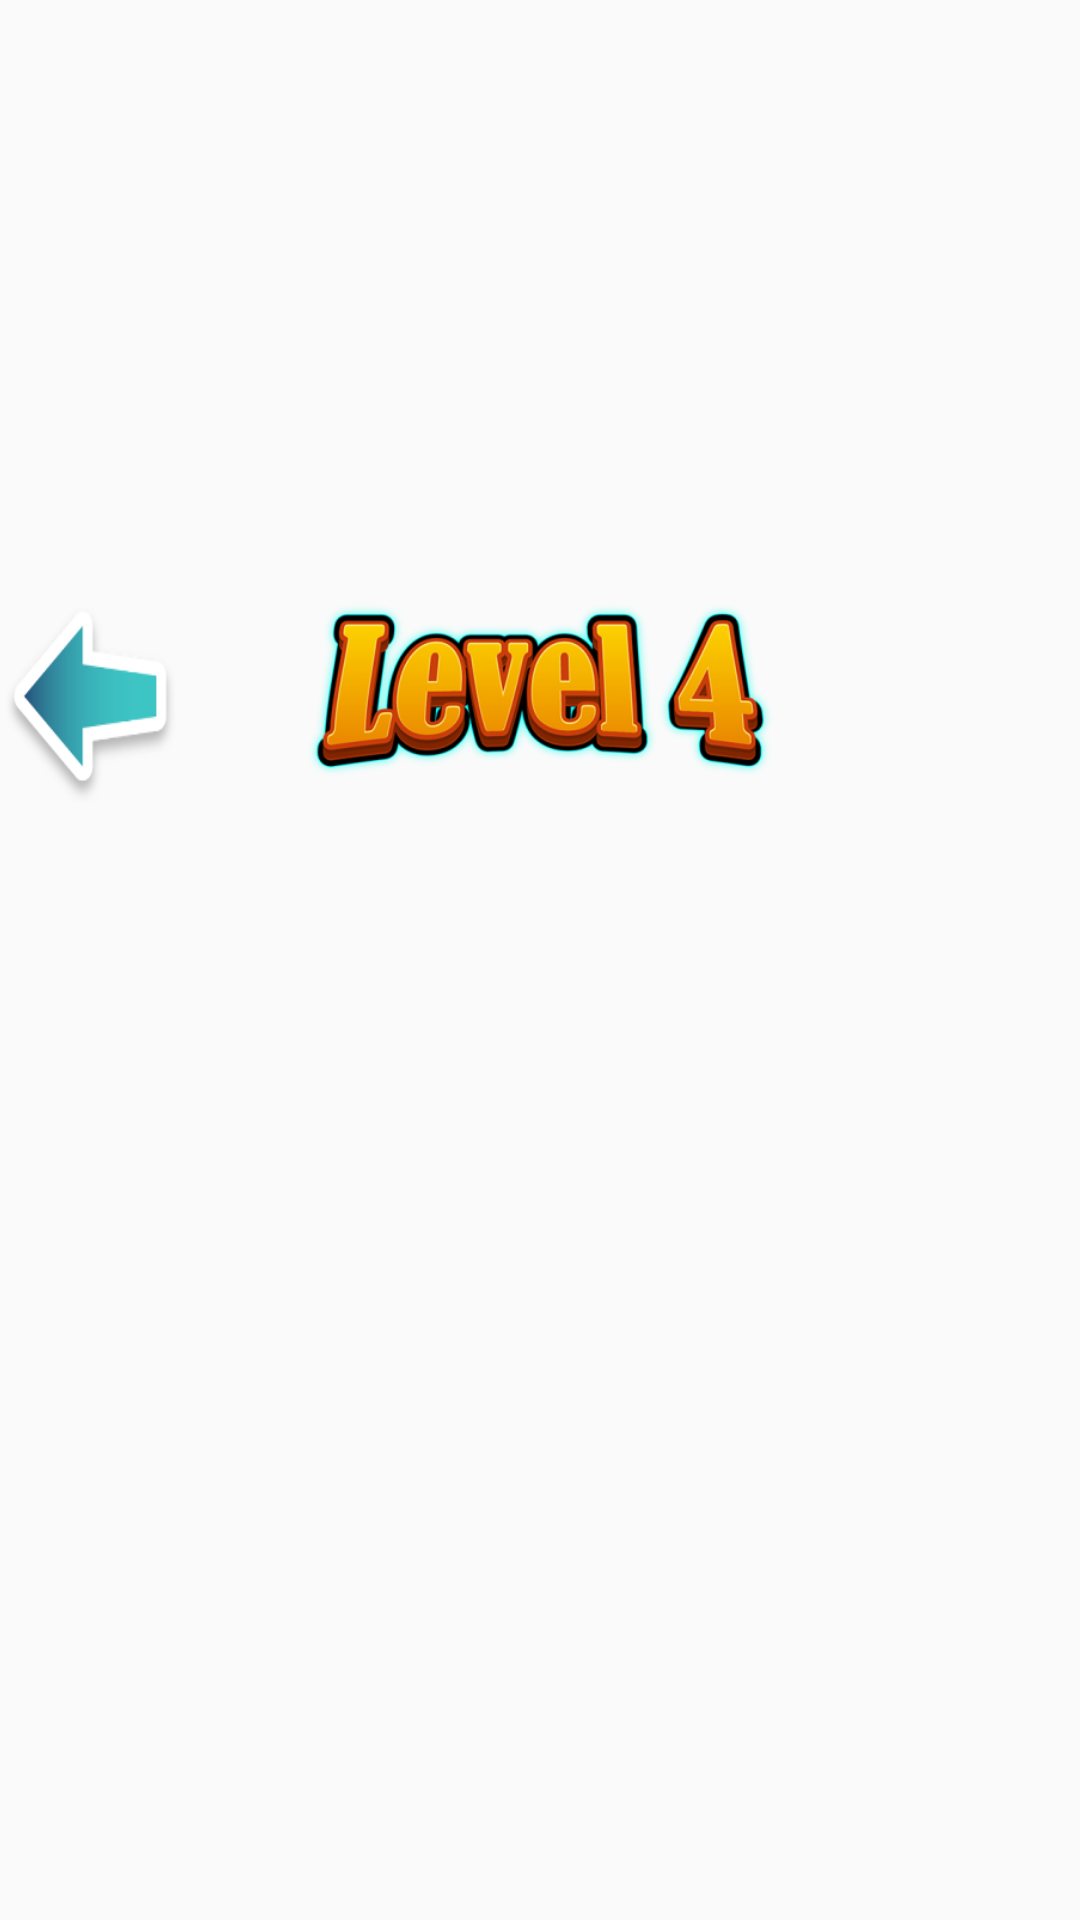

Icons on this 1080×1920 Android screen, each with the point to tap as (x=x, y=y):
arrow left: (x=91, y=709)
